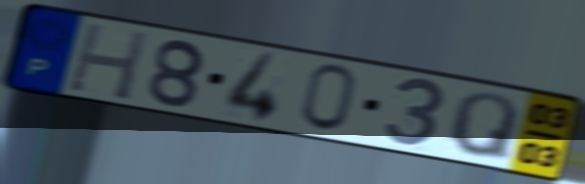0: (297, 62, 360, 135)
3: (381, 76, 448, 151)
4: (222, 49, 283, 126)
8: (146, 38, 206, 108)
H: (63, 19, 153, 103)
Q: (445, 91, 522, 165)
